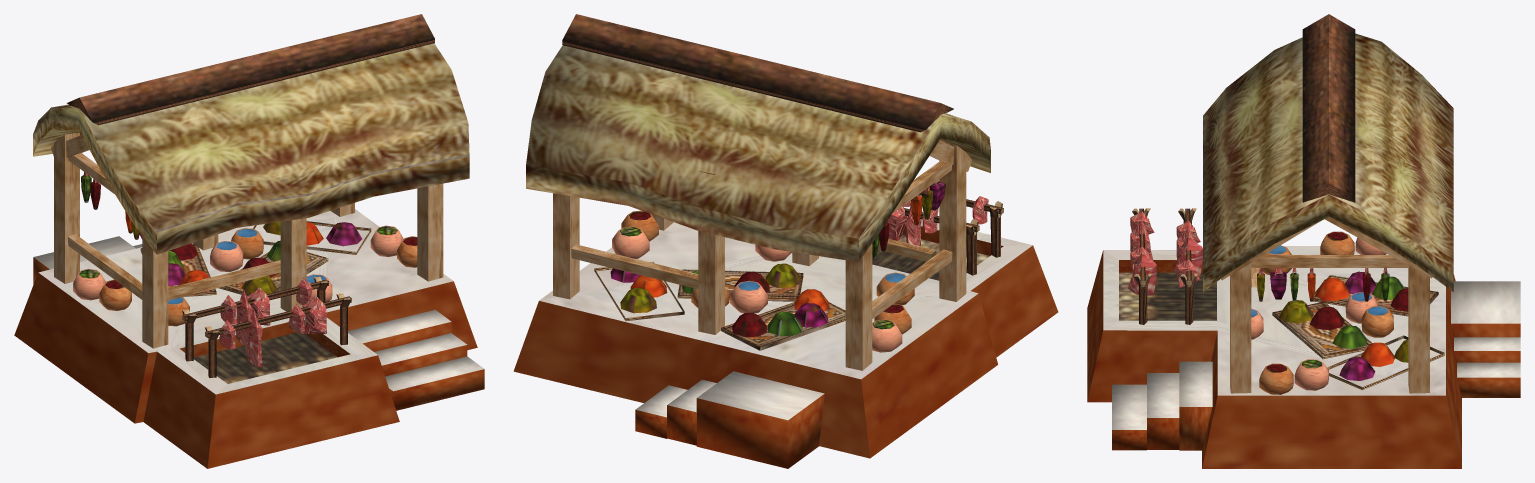
File: farmstead_1.dae
The picture shows the model from 3 angles, left to right: view 1: azimuth 30°, elevation 25°; view 2: azimuth 150°, elevation 25°; view 3: azimuth 270°, elevation 25°; orthographic projection. The views are drawn at different scales.
Parts seen in each view (by area): view 1: farm_1; view 2: farm_1; view 3: farm_1.
Part boxes in pixels (x1=…): farm_1: x1=14, y1=14, x2=484, y2=468; farm_1: x1=513, y1=14, x2=1058, y2=468; farm_1: x1=1087, y1=14, x2=1520, y2=468.
Size of the model in its own units: 12.84 by 13.7 by 10.11.
